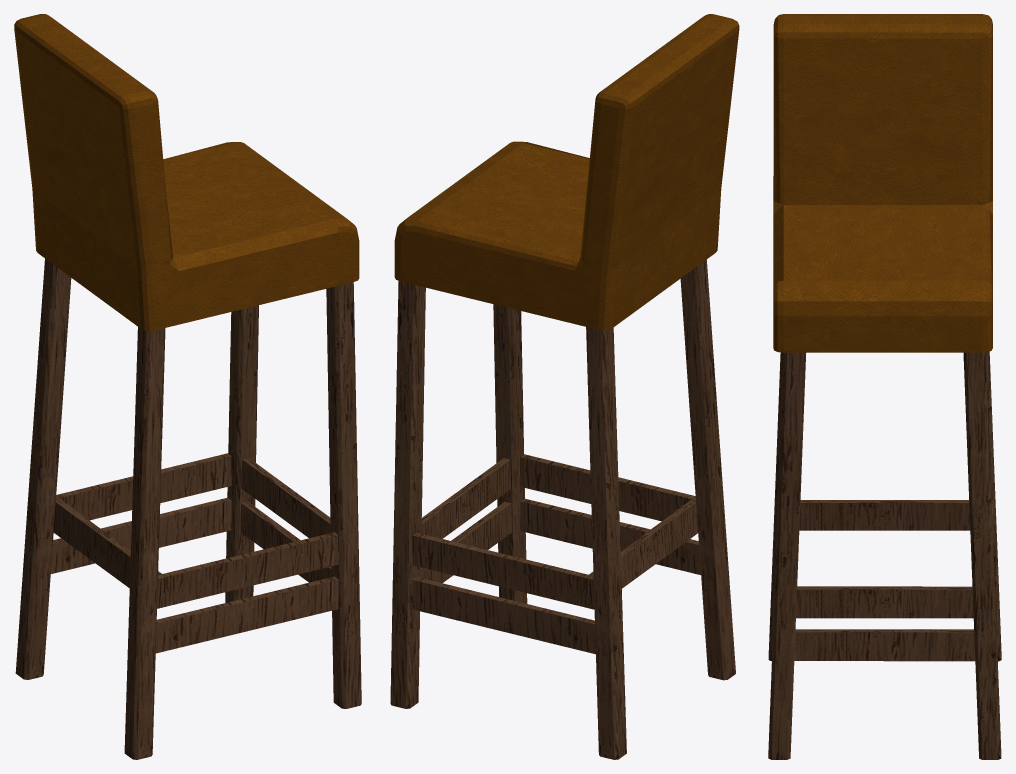
The model's file is BarStool2.fbx.
3 views of the same model, side by side, from view 1: azimuth 30°, elevation 25°; view 2: azimuth 150°, elevation 25°; view 3: azimuth 270°, elevation 25° (orthographic). The views are drawn at different scales.
Parts seen in each view (by area): view 1: Empty_Mesh; view 2: Empty_Mesh; view 3: Empty_Mesh.
Boxes of the visible parts, x1=… form: Empty_Mesh: x1=14, y1=14, x2=361, y2=759; Empty_Mesh: x1=390, y1=14, x2=739, y2=759; Empty_Mesh: x1=768, y1=14, x2=1001, y2=759.
Bounding box in the file's own units: 47.01 × 124 × 41.23.
